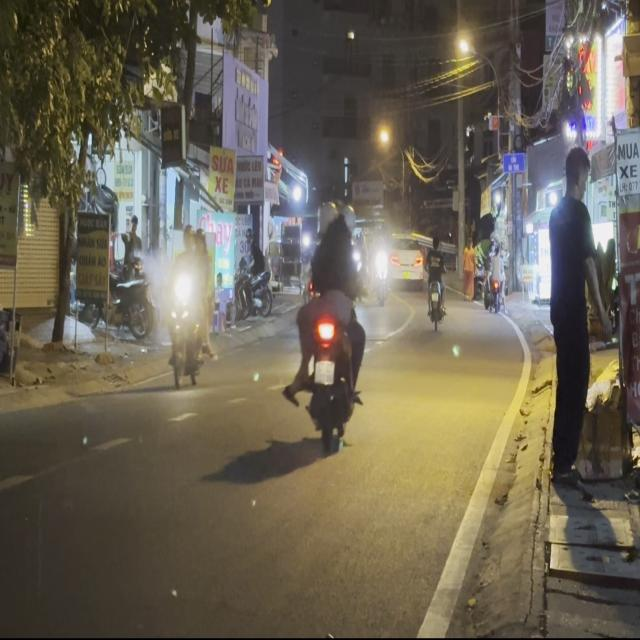helmet: (316, 199, 336, 242), (337, 203, 357, 243)
licenseplate: (286, 194, 367, 454)
nohelmet: (314, 359, 334, 384)
